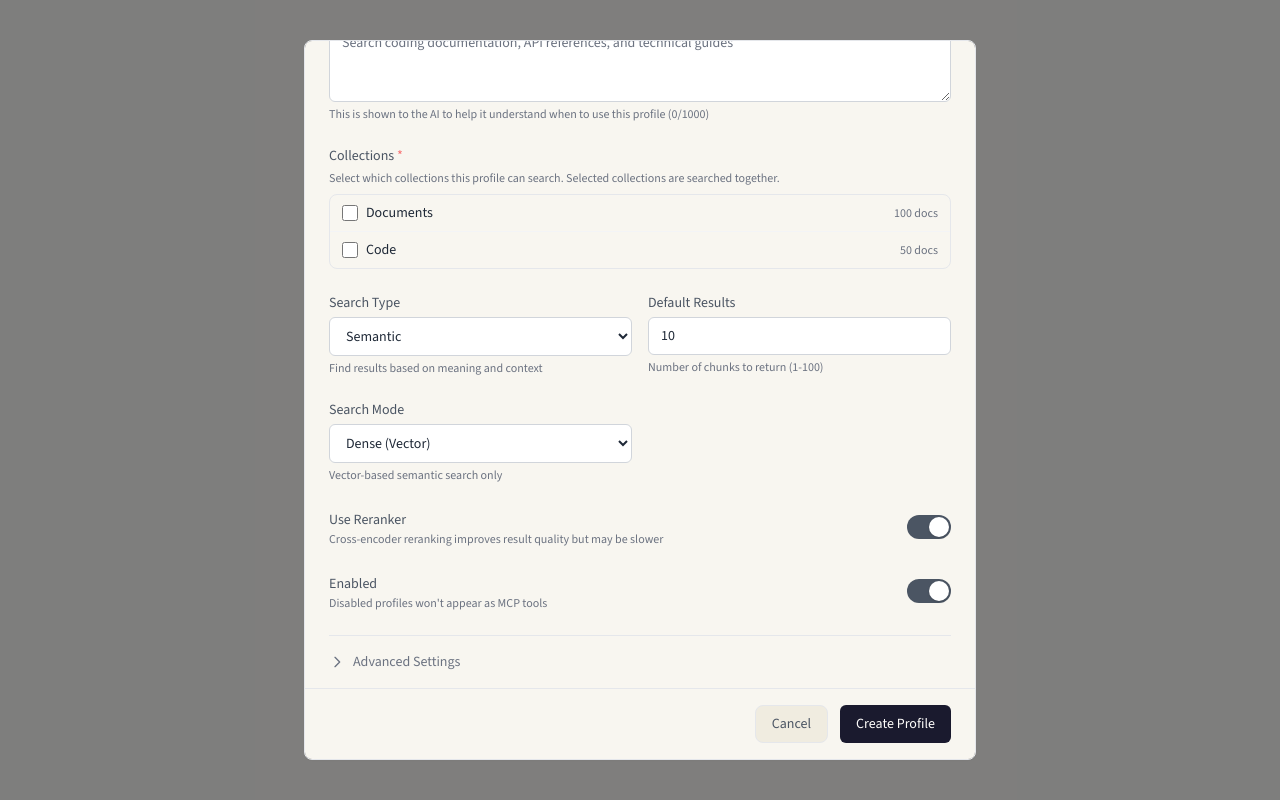
Test: ProfileFormModal › Advanced Settings › should show hybrid alpha when search type is hybrid
The image size is (1280, 800).
(page scrolled)
Click the button "Advanced Settings" at x=395, y=662, box [329,652,460,672]
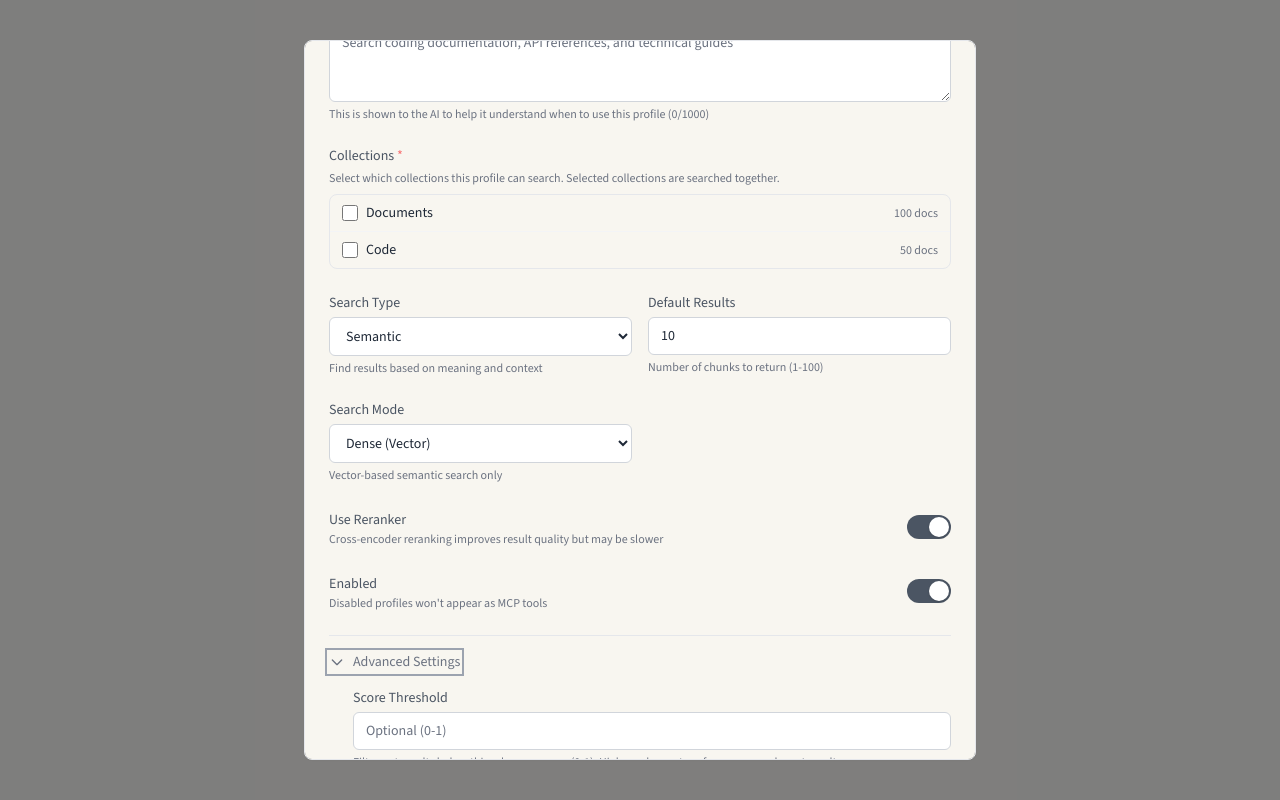
Expected: the field labelled "Hybrid Alpha" is not shown
Select "Hybrid" in the dropdown labelled "Search Type" at x=480, y=336, box [329,317,632,356]
(page scrolled)
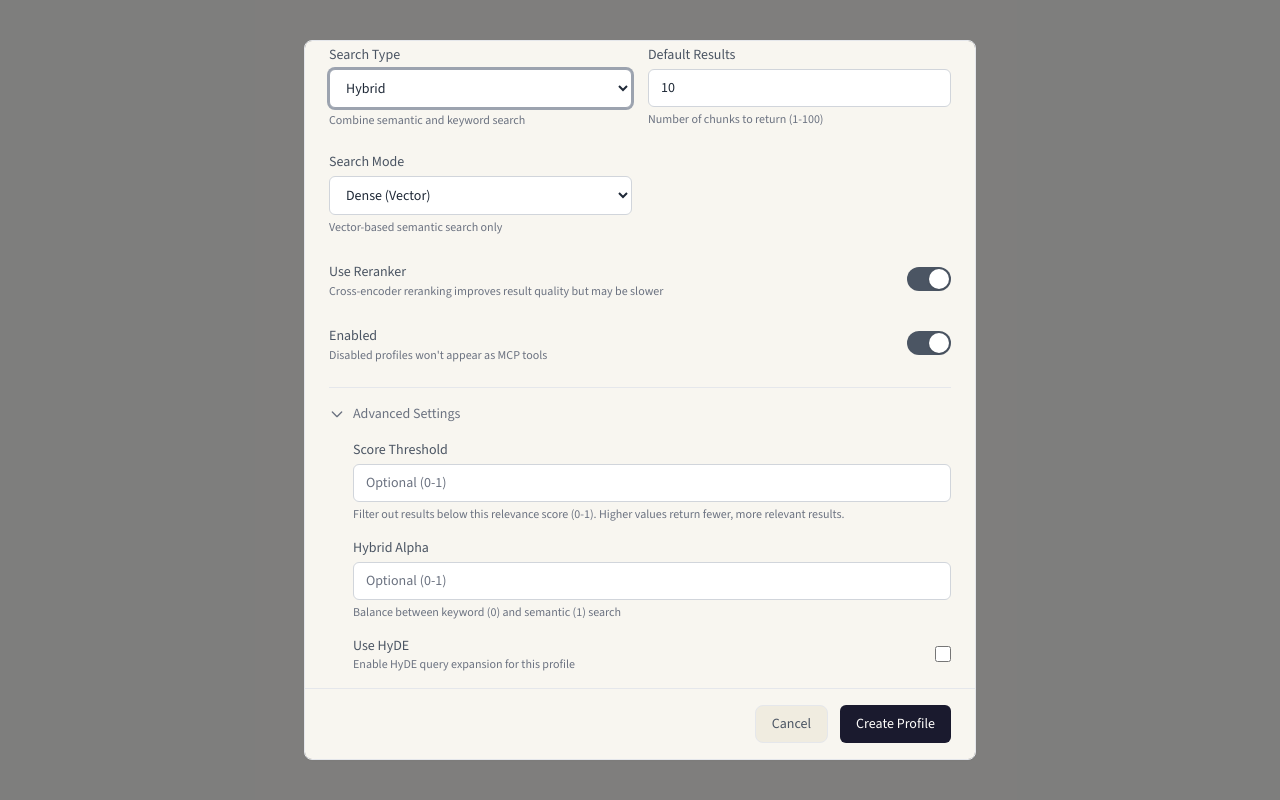
Now the number field labelled "Hybrid Alpha" is shown, box [353,562,951,600]
